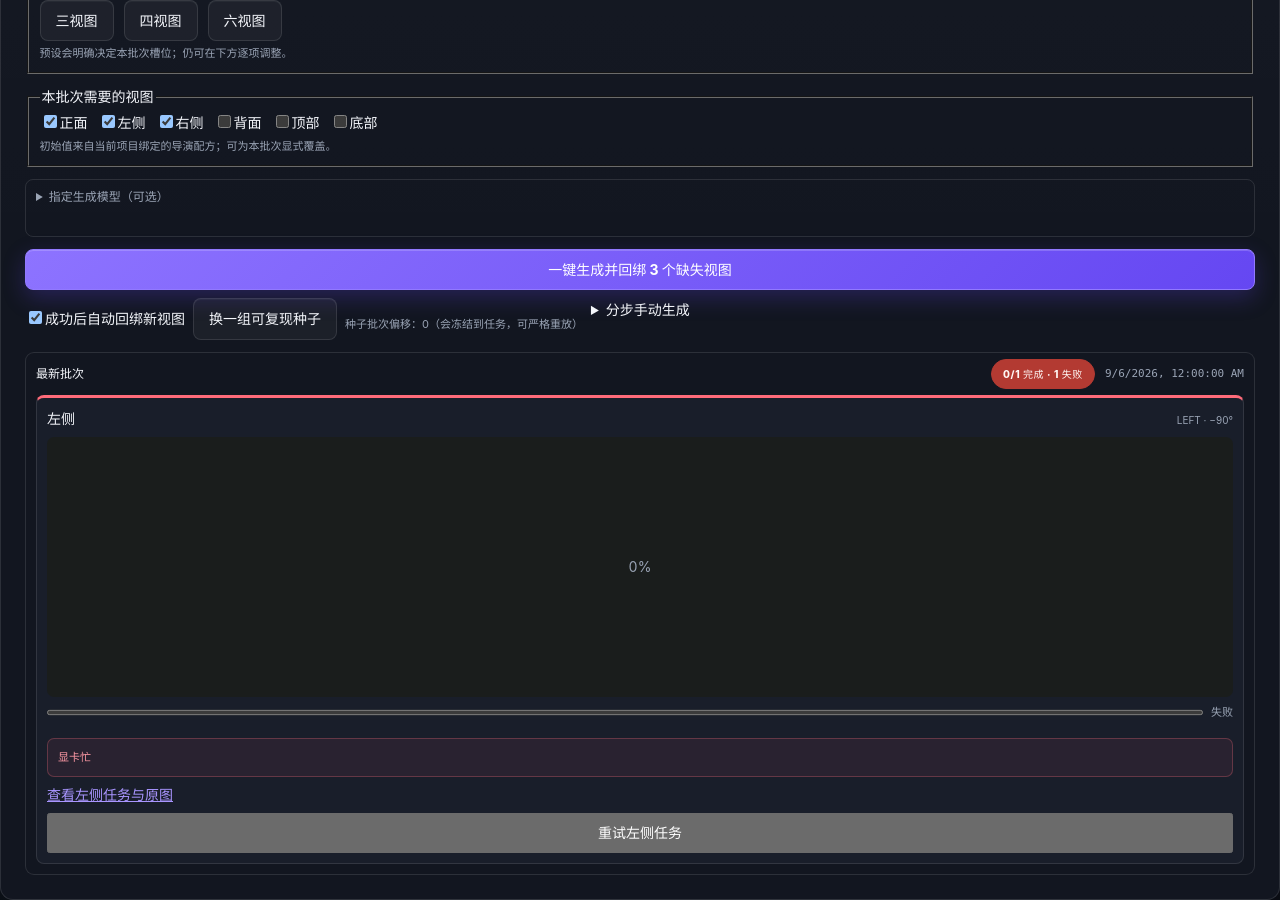
Test: GenerateMultiViewPanel profile selection › retries the failed view's existing job without submitting a new generation
(page scrolled)
Click the button "重试左侧任务" at point(640, 833), box x1=47 y1=813 x2=1233 y2=853
(page scrolled)
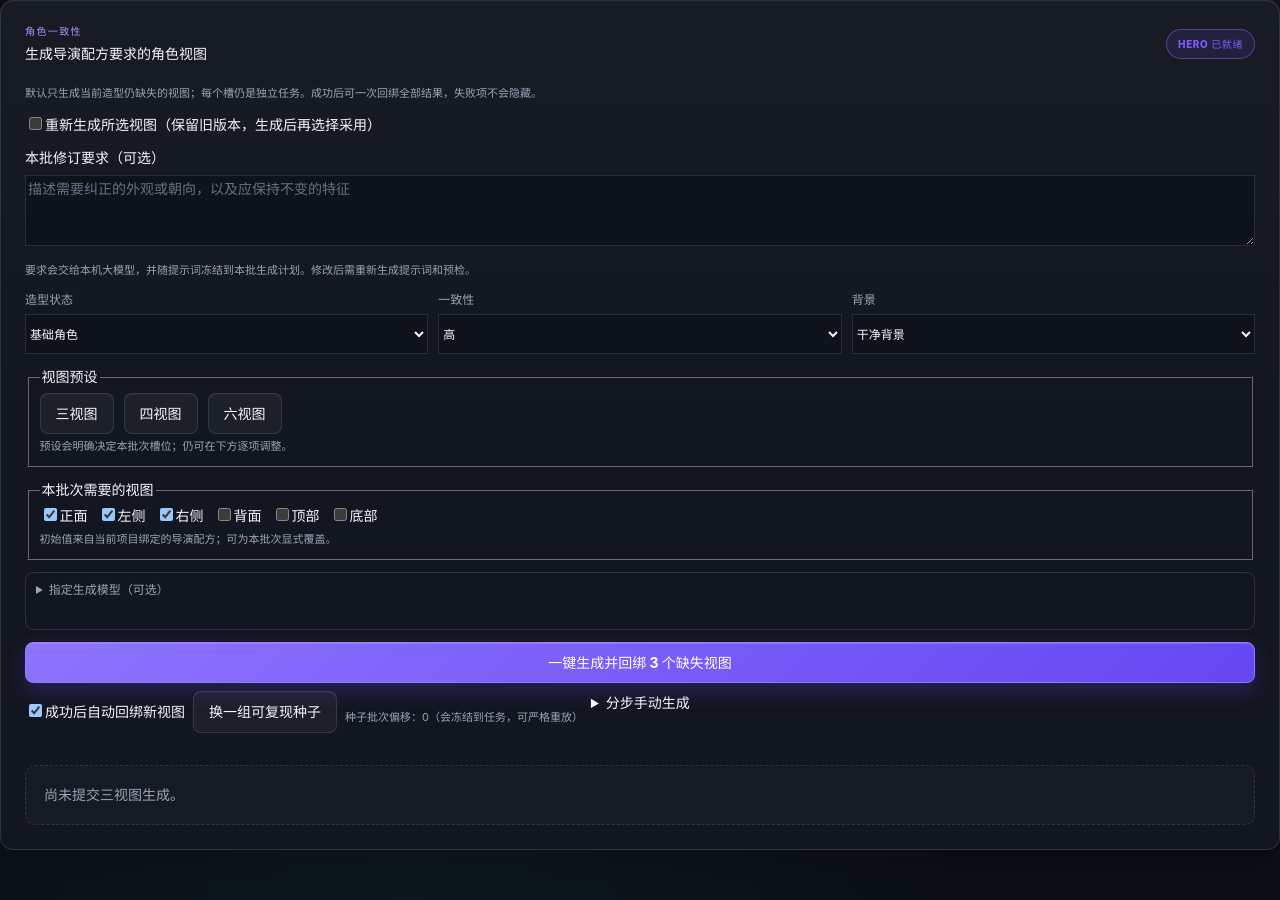
Result: the button "重试左侧任务" is gone
